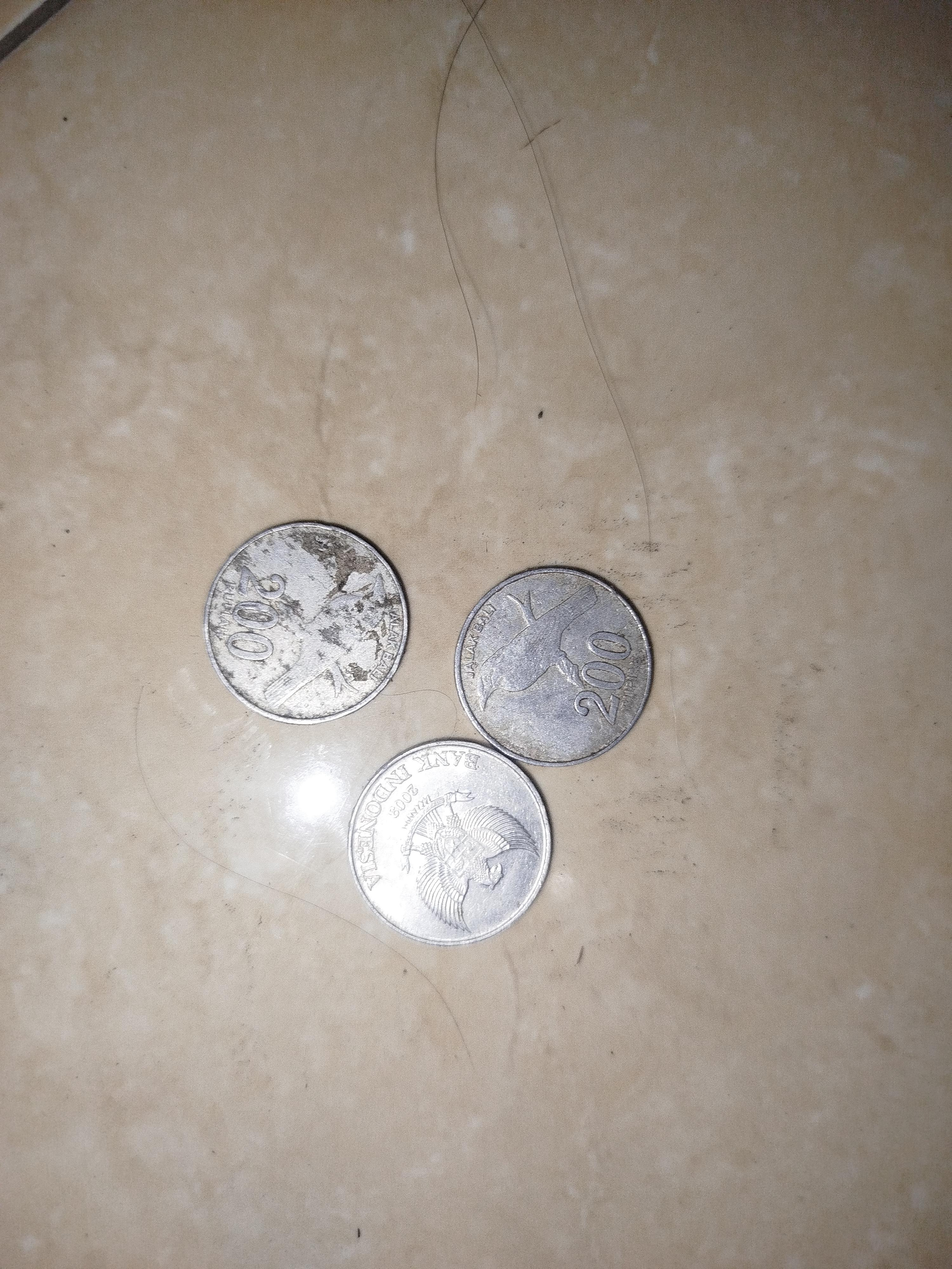coin_200_e2003: (200, 511, 412, 722), (345, 740, 553, 947), (454, 565, 658, 770)
